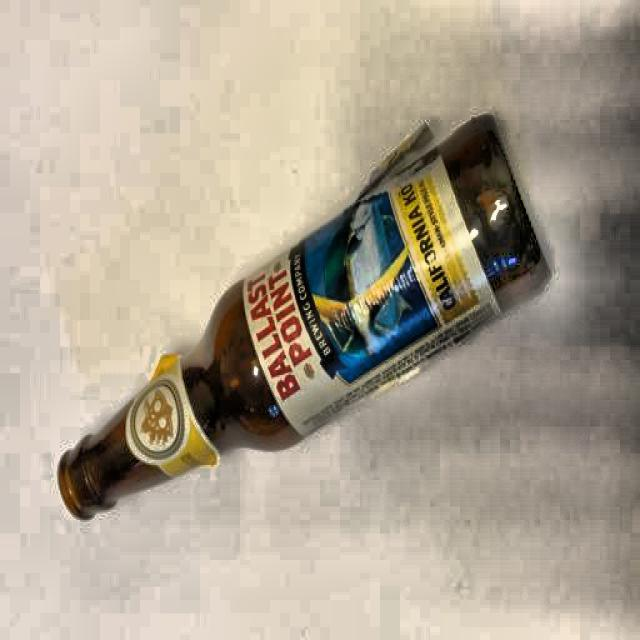glass: (53, 117, 552, 527)
